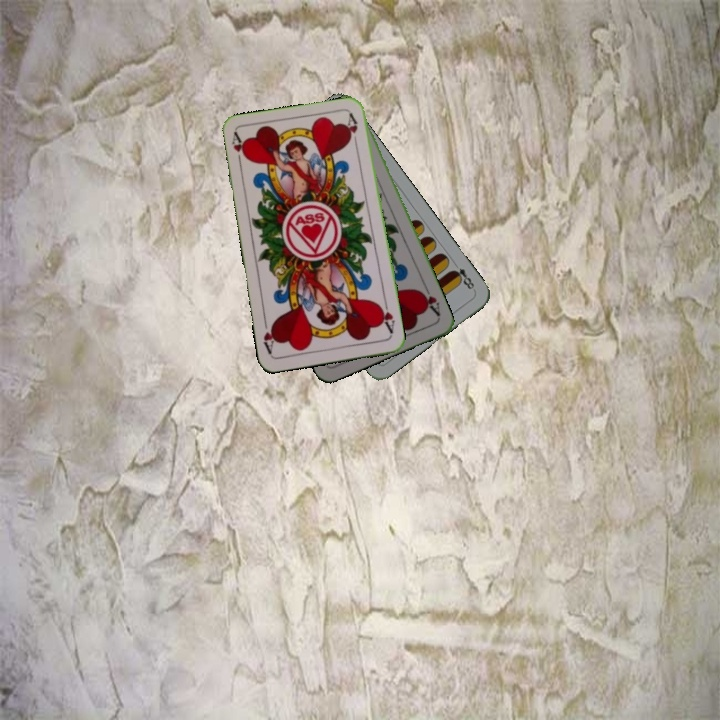E8: (448, 258, 478, 294)
HA: (415, 281, 443, 319), (228, 129, 250, 170), (375, 297, 397, 336)
